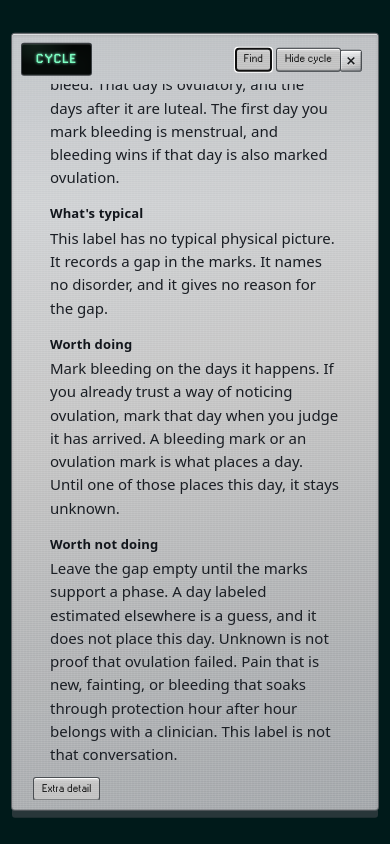
Test: CycleDetailDialog › shows each lens as headed sections
The image size is (390, 844).
(page scrolled)
Click the button "Extra detail".
click(67, 789)  # box [34,778,100,800]
(page scrolled)
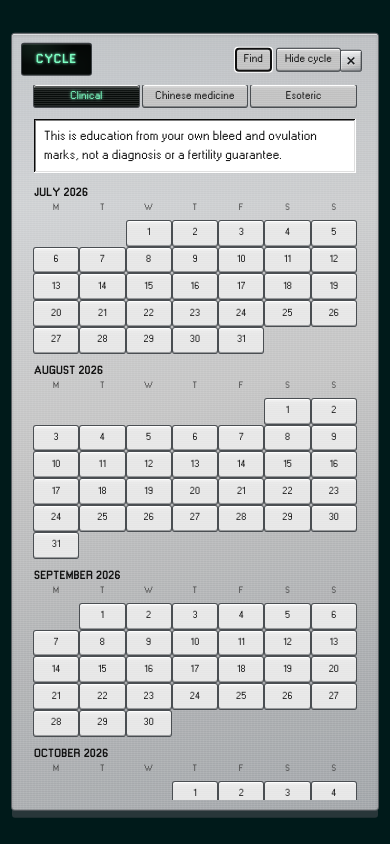
Click the button "Chinese medicine".
click(195, 96)  # box [143,85,247,107]
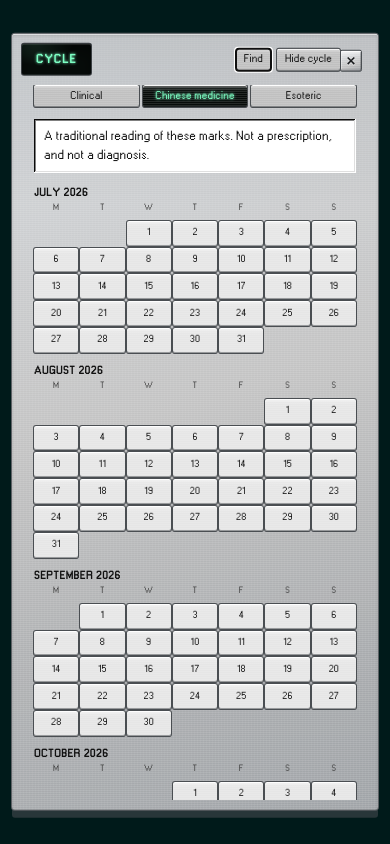
Expected: the heading "Physiology" is not shown
Click the button "Esoteric".
click(304, 96)  # box [251,85,356,107]
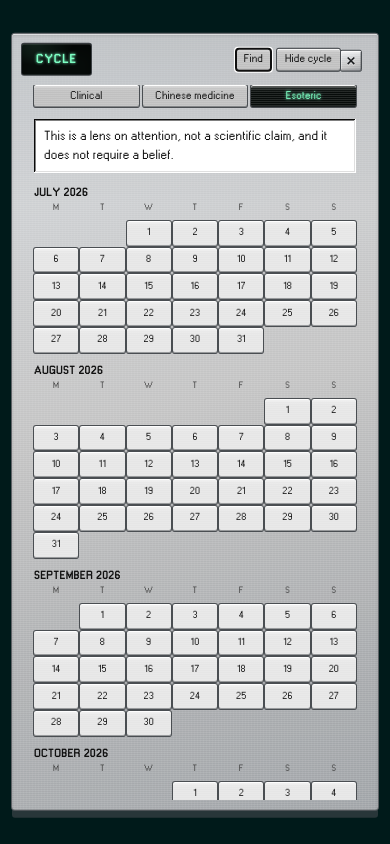
Click the button "Clinical".
click(86, 96)  # box [34,85,139,107]
(page scrolled)
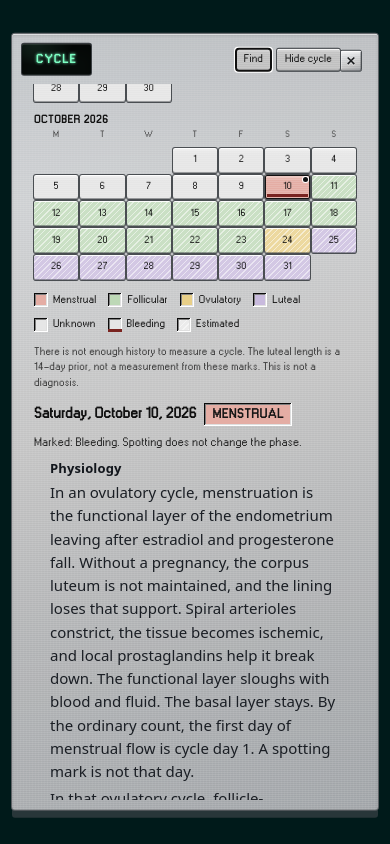
Now the text with test id "cycle-detail-phase" reads "Menstrual", box [212,408,284,420]
Now the heading "Physiology" is shown, box [50,458,122,476]
Now the element with test id "cycle-lens-body" shows "estradiol", box [50,482,335,781]
